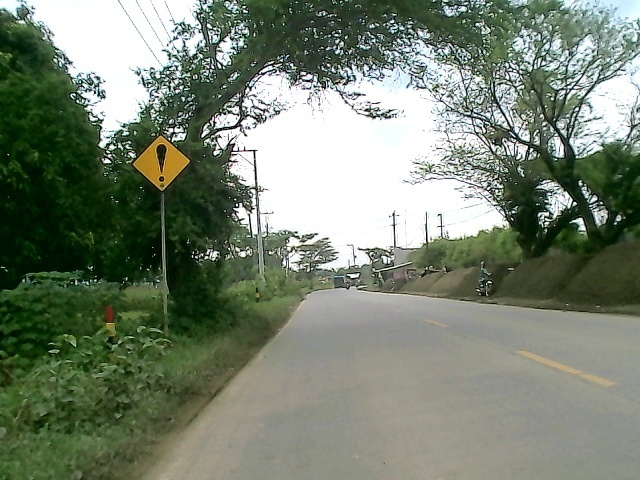Hati-hati: (129, 134, 193, 194)
